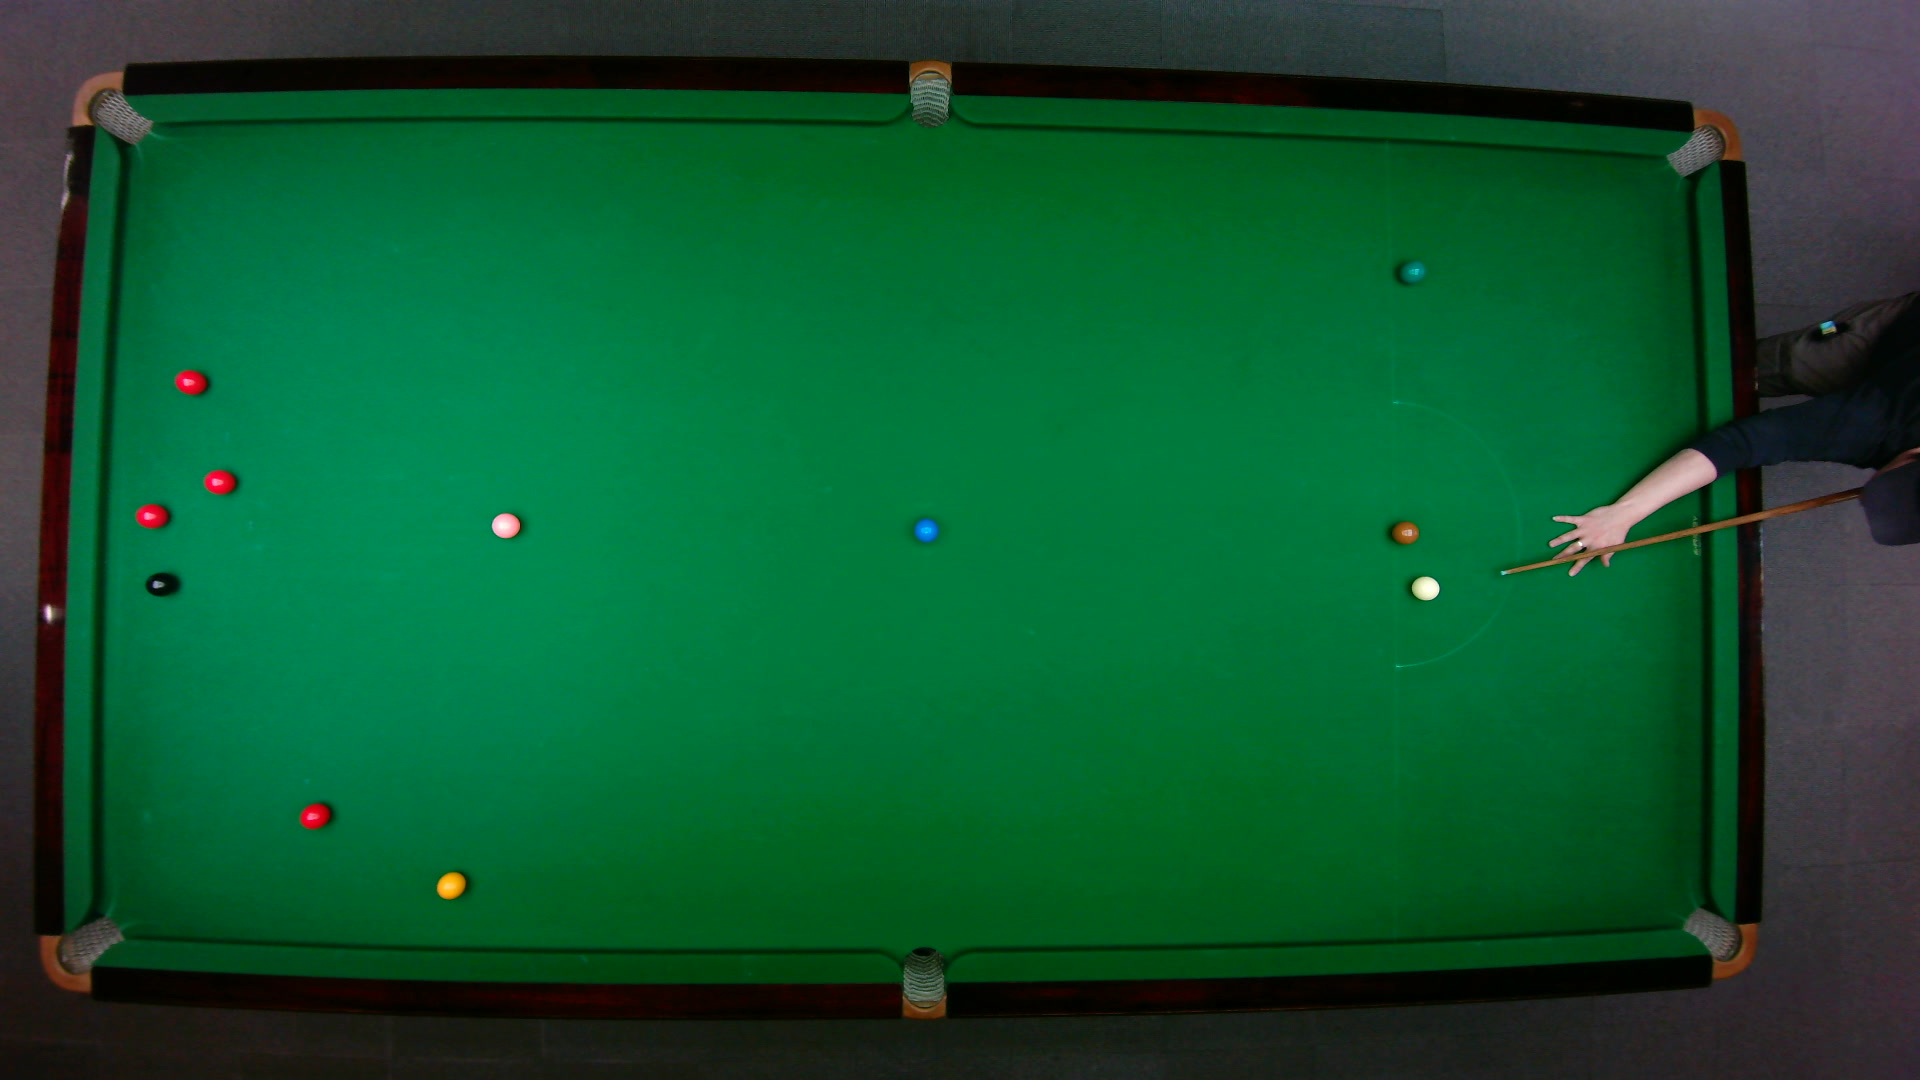bag: (38, 914, 125, 993), (69, 69, 153, 145), (1679, 905, 1756, 978), (1663, 107, 1742, 177), (901, 944, 944, 1021), (909, 57, 949, 128)
black: (144, 571, 175, 596)
blue: (911, 516, 939, 543)
brown: (1389, 520, 1419, 545)
cue: (1495, 483, 1870, 578)
green: (1396, 257, 1425, 284)
pink: (489, 510, 521, 541)
red: (297, 800, 331, 829), (173, 368, 207, 396), (202, 467, 236, 495), (135, 502, 169, 527)
white: (1408, 574, 1440, 600)
yellow: (435, 869, 465, 899)
zone: (1390, 398, 1519, 667)
